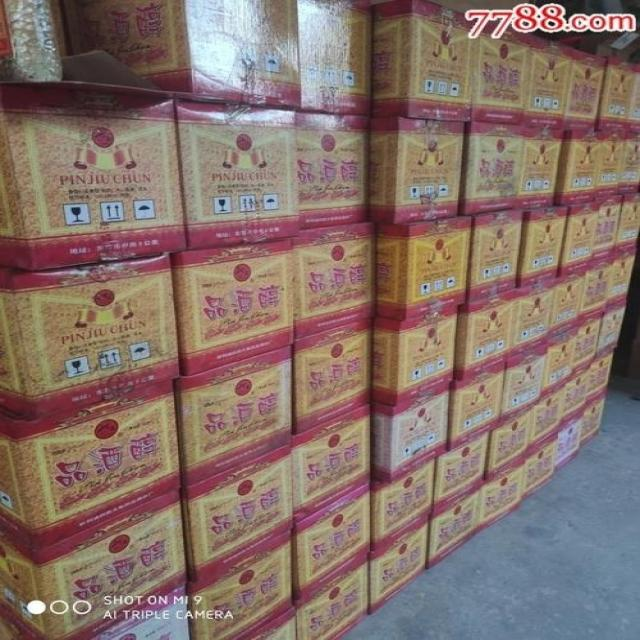box: (0, 85, 187, 270), (0, 378, 180, 547), (0, 252, 179, 418), (1, 487, 187, 640), (68, 0, 300, 107), (173, 96, 298, 248), (170, 237, 294, 376), (173, 344, 294, 486), (179, 442, 296, 586), (186, 529, 294, 640), (367, 116, 466, 224), (291, 221, 378, 339), (375, 215, 470, 319), (293, 316, 374, 436), (291, 404, 370, 524), (293, 0, 375, 114), (296, 108, 371, 230), (292, 485, 370, 601), (371, 308, 458, 404), (370, 384, 451, 483), (471, 12, 530, 123), (296, 553, 370, 640), (457, 123, 526, 216), (369, 460, 434, 553), (456, 287, 517, 382), (465, 208, 524, 304), (90, 585, 189, 640), (369, 522, 428, 614), (521, 35, 576, 130), (451, 360, 506, 451), (433, 431, 489, 519), (516, 203, 570, 289), (429, 486, 480, 572), (517, 125, 563, 208), (502, 344, 547, 424), (554, 129, 600, 204), (562, 49, 605, 129), (486, 406, 531, 481), (480, 458, 524, 530), (515, 278, 553, 355), (547, 269, 585, 344), (559, 200, 596, 276), (598, 56, 635, 131), (543, 326, 577, 399), (522, 431, 556, 501), (580, 255, 614, 325), (529, 385, 564, 451), (594, 130, 627, 199), (239, 603, 297, 640), (593, 196, 623, 266), (554, 409, 582, 472), (576, 315, 602, 378), (611, 247, 637, 310), (600, 301, 625, 363), (564, 367, 590, 424), (616, 194, 640, 254), (582, 390, 607, 447), (620, 131, 640, 195), (590, 352, 614, 404), (630, 63, 640, 132)
